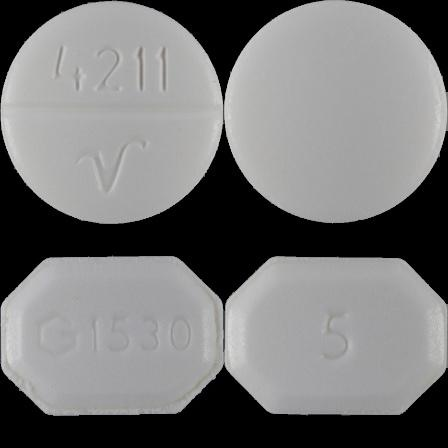0179-1971: (0, 0, 224, 224)
